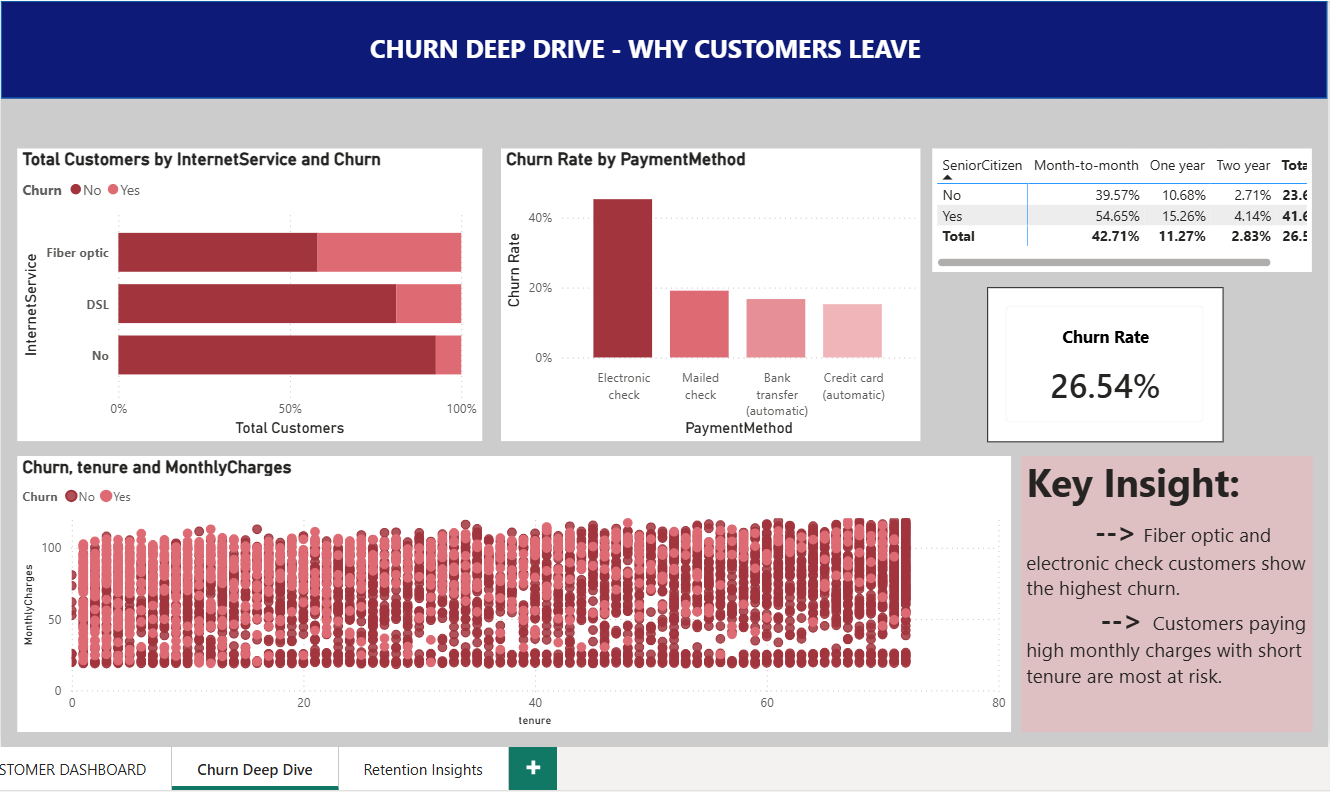

The dashboard page shown, as its layout file describes it:
{"tool":"powerbi","page":{"name":"Churn Deep Dive","canvas":[1280,720],"ordinal":1},"visuals":[{"type":"shape","box":[0,0,1280,94.1],"z":0},{"type":"textbox","title":"CHURN DEEP DRIVE - WHY CUSTOMERS LEAVE","box":[351.1,29,576.7,35],"z":1000},{"type":"hundredPercentStackedBarChart","fields":{"Category":["WA_Fn-UseC_-Telco-Customer-Churn (2).InternetService"],"Series":["WA_Fn-UseC_-Telco-Customer-Churn (2).Churn"],"Y":["_Measures.Total Customers"]},"box":[15.1,142.7,448.7,282.7],"z":2000},{"type":"scatterChart","fields":{"X":["WA_Fn-UseC_-Telco-Customer-Churn (2).tenure"],"Y":["WA_Fn-UseC_-Telco-Customer-Churn (2).MonthlyCharges"],"Series":["WA_Fn-UseC_-Telco-Customer-Churn (2).Churn"]},"box":[15.1,439.1,959.2,266.2],"z":3000},{"type":"clusteredColumnChart","fields":{"Category":["WA_Fn-UseC_-Telco-Customer-Churn (2).PaymentMethod"],"Y":["_Measures.Churn Rate"]},"box":[483,142.7,404.8,282.7],"z":4000},{"type":"pivotTable","fields":{"Rows":["WA_Fn-UseC_-Telco-Customer-Churn (2).SeniorCitizen"],"Columns":["WA_Fn-UseC_-Telco-Customer-Churn (2).Contract"],"Values":["_Measures.Churn Rate"]},"box":[898.8,142.7,366.4,119.4],"z":5000},{"type":"cardVisual","fields":{"Data":["_Measures.Churn Rate"]},"box":[952.3,275.8,227.8,149.6],"z":5001},{"type":"textbox","title":"Key Insight:","box":[983.9,439.1,281.3,266.2],"z":5002}]}

Visuals, with their boxes on the page's 1280x720 design canvas (x1, y1, x2, y2). These are canvas units, not pixel positions in the 1330x792 screenshot, which may show the page scaled, cropped or inside an application window:
shape: [0, 0, 1280, 94]
"CHURN DEEP DRIVE - WHY CUSTOMERS LEAVE" textbox: [351, 29, 928, 64]
hundredPercentStackedBarChart - WA_Fn-UseC_-Telco-Customer-Churn (2).InternetService x WA_Fn-UseC_-Telco-Customer-Churn (2).Churn: [15, 143, 464, 425]
scatterChart - WA_Fn-UseC_-Telco-Customer-Churn (2).tenure x WA_Fn-UseC_-Telco-Customer-Churn (2).MonthlyCharges: [15, 439, 974, 705]
clusteredColumnChart - WA_Fn-UseC_-Telco-Customer-Churn (2).PaymentMethod x _Measures.Churn Rate: [483, 143, 888, 425]
pivotTable - WA_Fn-UseC_-Telco-Customer-Churn (2).SeniorCitizen x WA_Fn-UseC_-Telco-Customer-Churn (2).Contract: [899, 143, 1265, 262]
cardVisual - _Measures.Churn Rate: [952, 276, 1180, 425]
"Key Insight:" textbox: [984, 439, 1265, 705]
